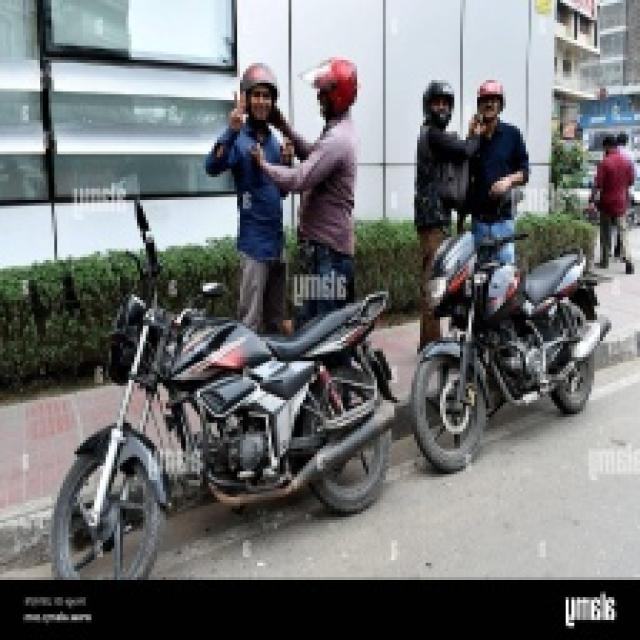bike: (39, 244, 402, 581), (410, 220, 602, 462)
